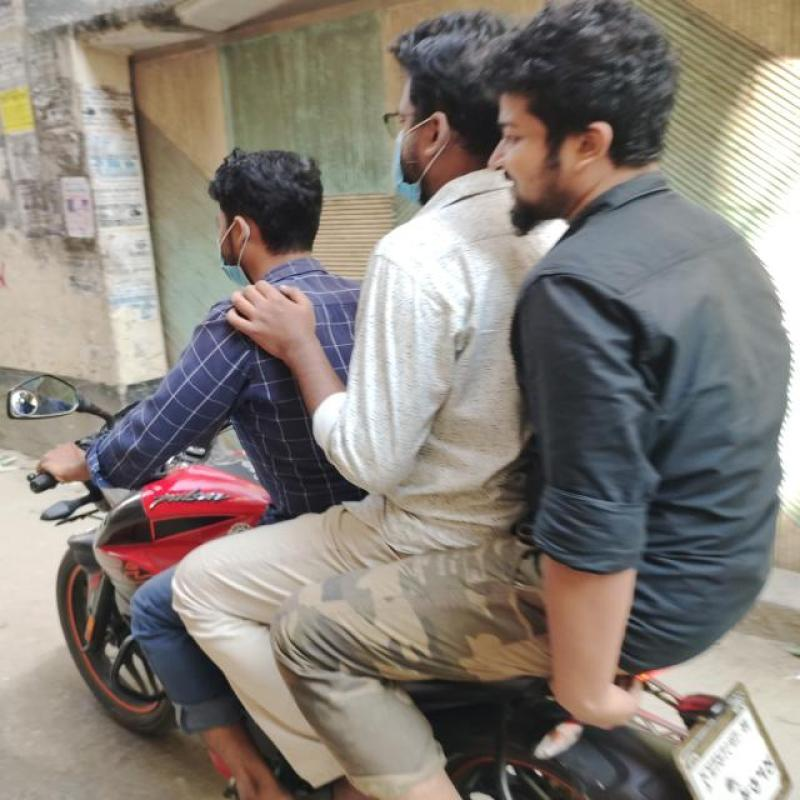nohelmet: (510, 11, 665, 198), (370, 14, 488, 194), (206, 132, 332, 280)
